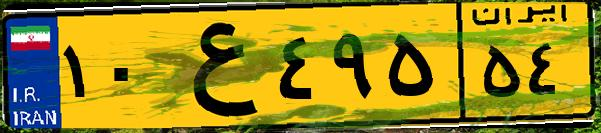0: (110, 28, 158, 98)
1: (57, 26, 110, 100)
4: (270, 28, 330, 110), (525, 38, 570, 115)
5: (385, 28, 445, 110), (475, 38, 525, 113)
9: (330, 28, 385, 110)
ع: (158, 12, 270, 120)
